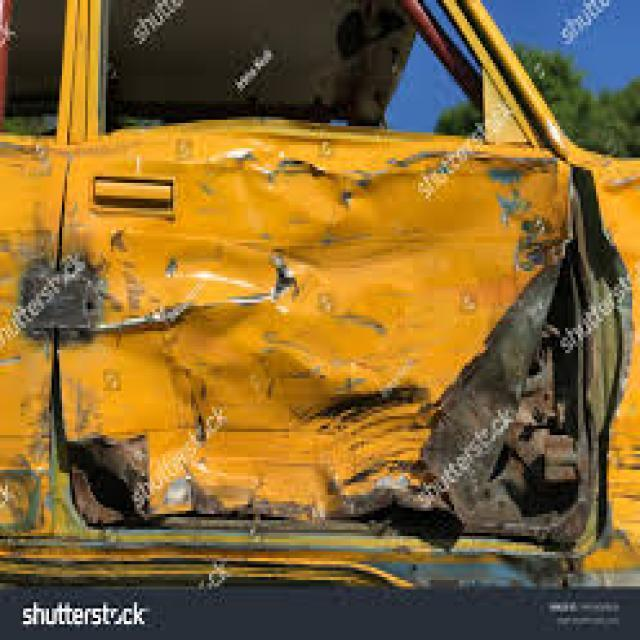damaged-door: (61, 0, 614, 552)
